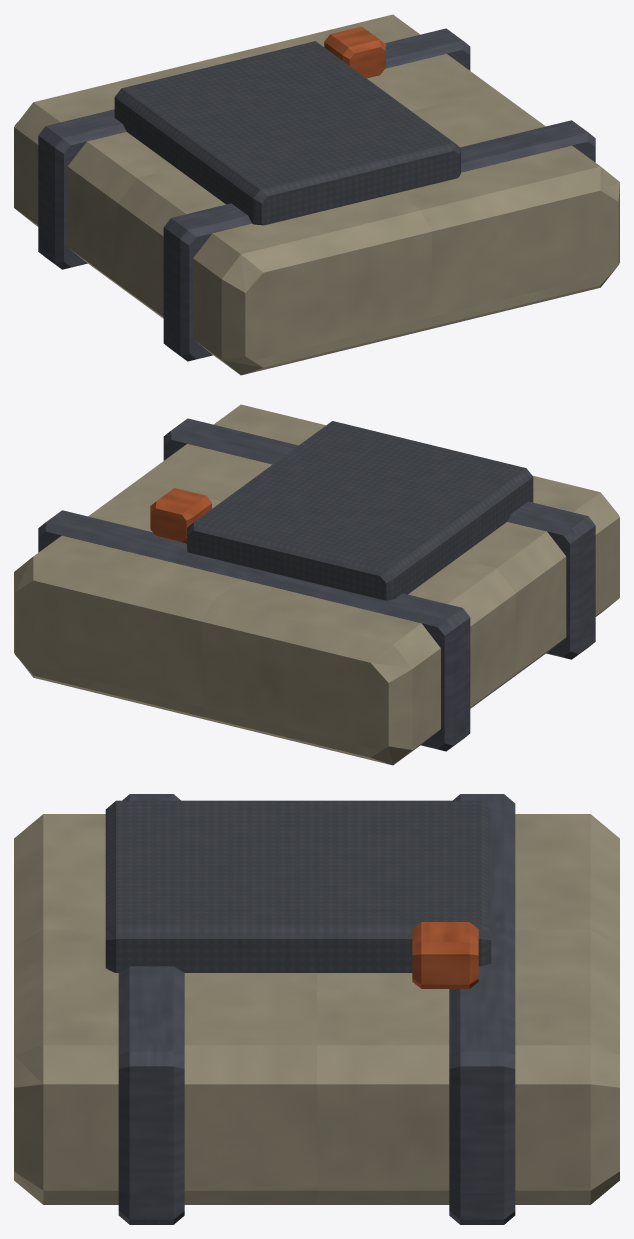
Rendered from bomb_c4.glb.
3 views of the same model, one above another, from view 1: azimuth 30°, elevation 25°; view 2: azimuth 150°, elevation 25°; view 3: azimuth 270°, elevation 25° (orthographic). The views are drawn at different scales.
Visible parts, largest first — view 1: WeaponRoot; view 2: WeaponRoot; view 3: WeaponRoot.
Part boxes in pixels (bbox=[...]): WeaponRoot: bbox=[14, 14, 619, 375]; WeaponRoot: bbox=[14, 404, 619, 765]; WeaponRoot: bbox=[14, 794, 619, 1224].
Bounding box in the file's own units: 0.172 × 0.066 × 0.165.
Materials: 4 (4 with a texture image).
